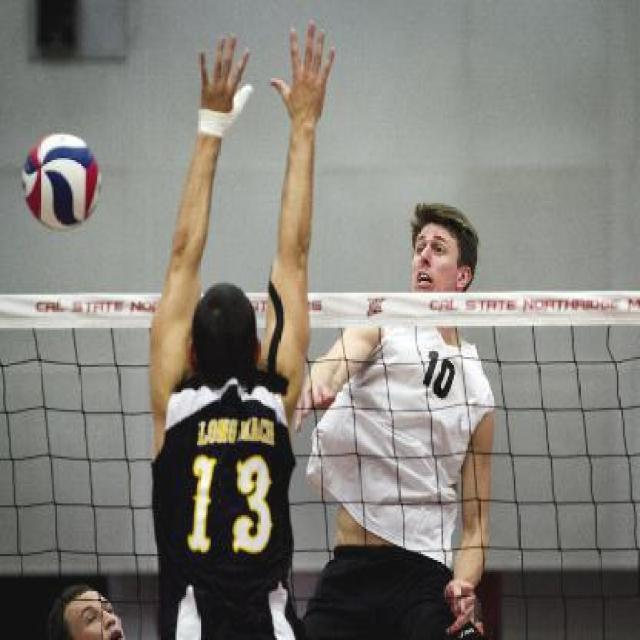volleyball: (19, 133, 101, 234)
